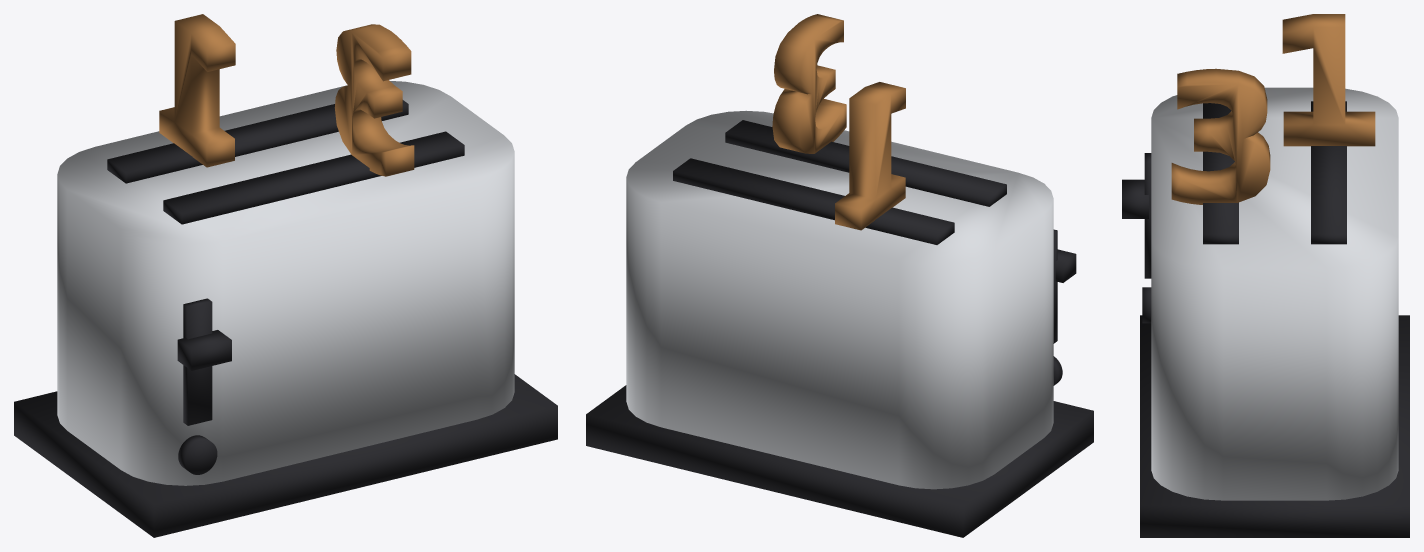
The model's file is toaster.glb.
3 views of the same model, side by side, from view 1: azimuth 30°, elevation 25°; view 2: azimuth 150°, elevation 25°; view 3: azimuth 270°, elevation 25° (orthographic). The views are drawn at different scales.
Parts seen in each view (by area): view 1: part0, part1, part7; view 2: part0, part1, part7; view 3: part0, part1, part7.
Boxes of the visible parts, x1,y1,x2,y2 form: part0: (57,81,514,485); part1: (14,100,557,537); part7: (159,14,414,176); part0: (626,110,1053,489); part1: (586,120,1093,537); part7: (772,14,905,230); part0: (1151,87,1398,500); part1: (1122,101,1409,537); part7: (1171,14,1375,204).
Size of the model in its own units: 1 by 0.9713 by 0.64.
